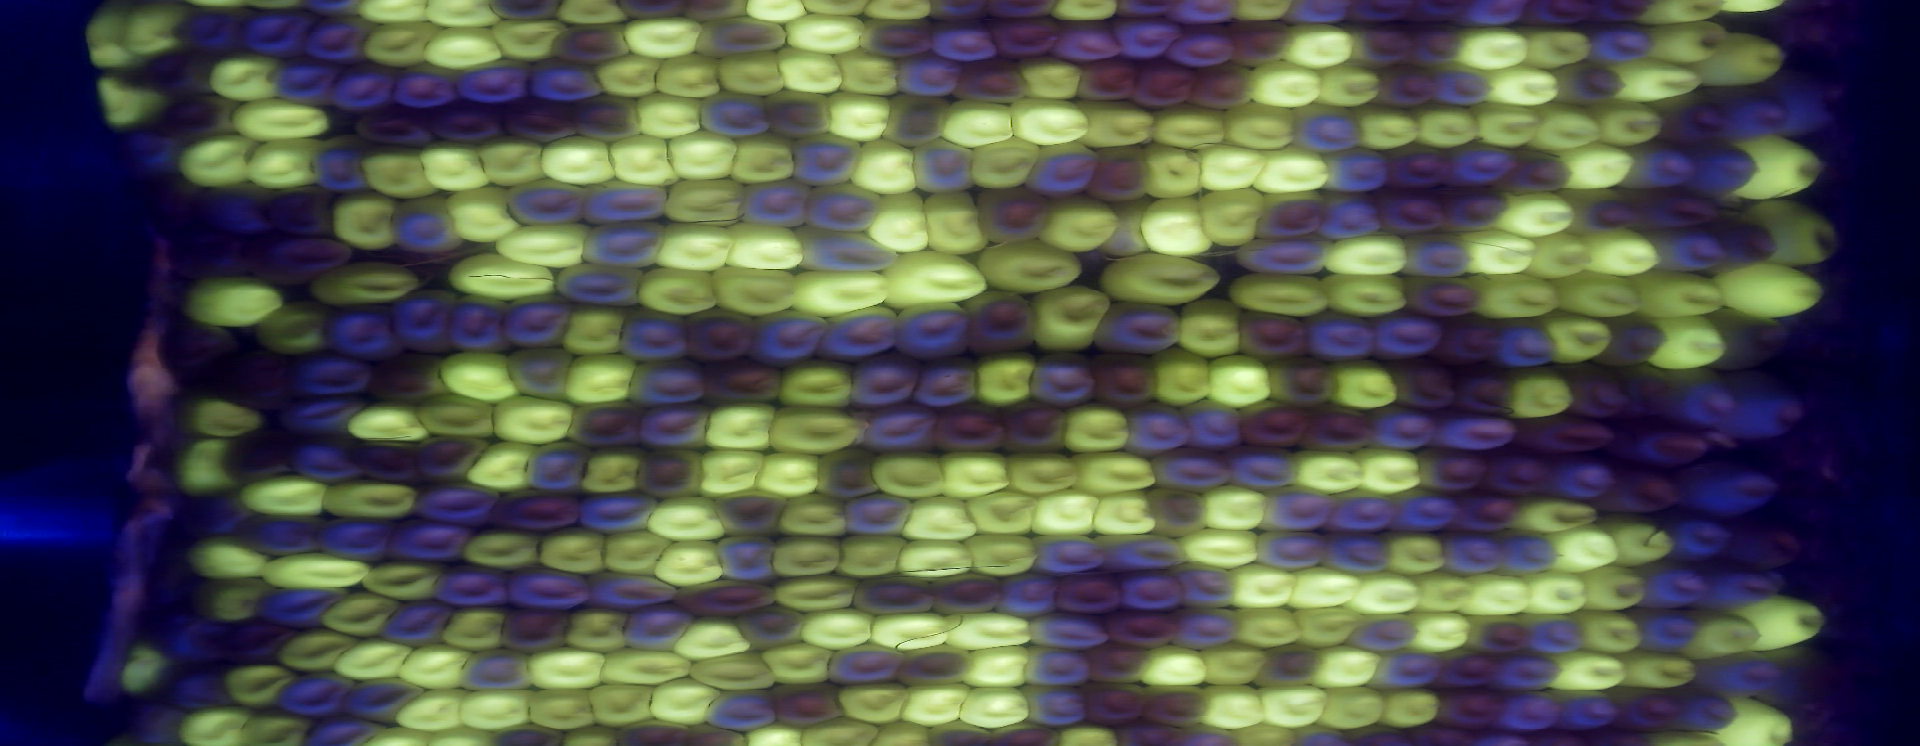fluorescent: (1098, 247, 1228, 312), (874, 244, 994, 312), (442, 245, 567, 307), (975, 234, 1091, 298), (1716, 258, 1829, 323), (762, 401, 876, 464), (1753, 195, 1840, 274), (1739, 132, 1829, 208), (1624, 267, 1731, 328), (178, 272, 287, 332), (1693, 26, 1790, 93), (1035, 189, 1128, 258), (1224, 265, 1340, 321), (1031, 279, 1116, 355), (307, 255, 424, 309), (170, 130, 264, 195), (786, 265, 902, 316), (631, 262, 729, 322), (313, 473, 422, 527), (234, 468, 336, 526), (1464, 268, 1565, 326), (1551, 268, 1649, 327), (1646, 310, 1733, 376), (224, 96, 336, 147), (1735, 592, 1828, 653), (86, 69, 171, 135), (485, 392, 580, 451), (256, 549, 373, 597), (80, 1, 152, 78), (921, 190, 996, 263), (238, 134, 327, 195), (1142, 341, 1221, 410), (1600, 56, 1706, 108), (431, 344, 519, 405), (606, 127, 684, 196), (351, 145, 441, 205), (711, 260, 802, 318), (440, 183, 522, 247), (113, 1, 197, 64), (1138, 194, 1217, 260), (558, 349, 640, 413), (939, 605, 1038, 658), (1064, 446, 1161, 500), (331, 186, 407, 255), (698, 398, 781, 461), (204, 48, 289, 109), (411, 390, 503, 446), (491, 218, 591, 269), (660, 173, 749, 230), (864, 445, 954, 502), (1174, 293, 1245, 365), (1526, 96, 1608, 158), (171, 391, 268, 443), (1201, 348, 1280, 413), (252, 303, 340, 360), (1446, 20, 1538, 75), (1195, 184, 1269, 252), (178, 535, 280, 584), (1007, 93, 1096, 149), (1576, 224, 1665, 281), (520, 643, 616, 696), (1713, 692, 1806, 746), (651, 219, 738, 277), (1146, 100, 1231, 159), (640, 491, 729, 548), (1638, 13, 1733, 66), (866, 187, 936, 258), (165, 435, 238, 503), (271, 624, 362, 677), (1679, 609, 1771, 663), (594, 644, 703, 690), (722, 219, 812, 274), (1491, 187, 1581, 243), (613, 12, 714, 61), (1555, 138, 1642, 195), (1059, 401, 1138, 463), (1538, 307, 1618, 369), (971, 344, 1043, 412), (1466, 96, 1547, 156), (1599, 510, 1680, 570), (318, 587, 404, 643), (724, 127, 802, 189), (1243, 56, 1326, 114), (1092, 194, 1160, 265), (1138, 138, 1210, 205), (669, 612, 759, 665), (936, 94, 1020, 151), (1247, 143, 1335, 197), (1284, 445, 1373, 499), (936, 443, 1011, 506), (688, 647, 782, 697), (1321, 229, 1416, 279), (482, 13, 574, 65), (894, 492, 983, 545), (749, 445, 828, 505), (1277, 15, 1360, 71), (1218, 99, 1302, 156), (776, 355, 860, 412), (643, 675, 726, 731), (1545, 522, 1629, 578), (851, 136, 923, 201), (331, 635, 418, 688), (1009, 50, 1089, 109), (340, 401, 436, 450), (1075, 96, 1160, 151), (536, 132, 617, 190), (1588, 96, 1669, 153), (217, 658, 305, 710), (433, 599, 511, 659), (393, 639, 475, 696), (828, 677, 913, 731), (780, 10, 872, 60), (471, 130, 550, 189), (1191, 138, 1275, 194), (465, 435, 539, 497), (191, 572, 274, 627), (1282, 562, 1369, 615), (823, 88, 899, 148), (771, 489, 852, 545), (1177, 523, 1267, 573), (459, 523, 547, 575), (1322, 269, 1411, 321), (360, 17, 442, 72), (797, 601, 879, 657), (962, 527, 1046, 581), (1308, 59, 1391, 113), (692, 443, 771, 500), (1003, 443, 1084, 499), (1348, 99, 1427, 156), (1408, 98, 1487, 154), (769, 570, 863, 616), (662, 127, 742, 183), (1133, 639, 1212, 695), (583, 677, 662, 733), (1520, 20, 1599, 75), (1458, 225, 1538, 281), (830, 530, 913, 583), (560, 299, 628, 363), (831, 47, 909, 103), (1193, 637, 1277, 688), (1483, 64, 1567, 115), (1325, 356, 1402, 413), (1026, 488, 1104, 543), (452, 685, 540, 734), (1502, 366, 1577, 424), (773, 43, 849, 99), (1198, 479, 1273, 535), (1224, 559, 1300, 615), (1378, 526, 1453, 582), (523, 684, 604, 736), (711, 44, 789, 99), (1349, 442, 1427, 497), (1571, 605, 1644, 663), (536, 526, 615, 579), (411, 138, 493, 190), (165, 698, 253, 746), (960, 642, 1040, 695), (962, 488, 1038, 543), (1524, 228, 1600, 283), (1250, 679, 1333, 729), (951, 682, 1035, 733), (867, 608, 959, 653), (1513, 491, 1605, 537), (969, 134, 1041, 191), (1614, 648, 1701, 696), (1344, 572, 1431, 620), (595, 527, 673, 579), (1309, 644, 1391, 695), (1089, 486, 1163, 541), (416, 24, 504, 71), (765, 529, 845, 581), (577, 443, 651, 497), (651, 537, 726, 590), (1315, 681, 1390, 735), (760, 639, 840, 690), (894, 535, 977, 583), (359, 557, 446, 603), (1547, 648, 1631, 695), (590, 49, 666, 100), (1404, 606, 1480, 658), (1457, 572, 1537, 621), (1578, 562, 1652, 615), (560, 601, 629, 657), (1520, 566, 1594, 617), (650, 51, 729, 100), (1229, 603, 1308, 652), (1288, 601, 1364, 652), (898, 680, 970, 733), (389, 686, 468, 734), (1404, 568, 1480, 617), (1201, 680, 1270, 734), (1373, 684, 1446, 731), (116, 636, 167, 704), (234, 708, 316, 746), (1635, 1, 1733, 31), (420, 1, 506, 34), (353, 1, 440, 29), (550, 1, 634, 29), (737, 1, 819, 28), (1044, 1, 1127, 26), (863, 1, 940, 27), (1228, 1, 1296, 29), (797, 1, 878, 20)
nonfluorescent: (1673, 456, 1783, 530), (1749, 435, 1847, 517), (204, 342, 299, 421), (1719, 364, 1813, 443), (151, 317, 242, 390), (245, 230, 356, 289), (1764, 69, 1856, 140), (1708, 304, 1795, 379), (885, 296, 980, 365), (1610, 419, 1717, 479), (1656, 363, 1744, 435), (1089, 296, 1190, 359), (960, 285, 1044, 360), (791, 220, 905, 276), (814, 301, 906, 369), (318, 293, 407, 363), (1594, 463, 1692, 526), (136, 171, 214, 249), (138, 517, 204, 608), (486, 480, 588, 538), (190, 183, 285, 244), (1709, 82, 1798, 148), (500, 561, 600, 619), (389, 284, 464, 361), (158, 229, 260, 285), (140, 604, 233, 665), (697, 353, 793, 412), (407, 478, 512, 532), (680, 303, 765, 369), (497, 287, 578, 356), (380, 512, 478, 570), (360, 347, 452, 408), (498, 341, 583, 407), (743, 307, 833, 370), (1760, 639, 1834, 714), (1717, 511, 1802, 576), (579, 213, 673, 272), (1520, 412, 1622, 465), (973, 181, 1057, 247), (383, 191, 467, 256), (1682, 140, 1766, 205), (257, 179, 342, 243), (1229, 305, 1315, 367), (1118, 394, 1200, 459), (249, 579, 351, 631), (271, 665, 362, 723), (162, 485, 260, 539), (845, 348, 924, 414), (506, 171, 595, 230), (927, 398, 1013, 459), (1604, 679, 1690, 740), (555, 258, 649, 314), (167, 1, 258, 58), (671, 575, 787, 619), (1025, 138, 1107, 201), (1651, 89, 1733, 152), (1380, 353, 1462, 415), (844, 571, 945, 621), (691, 13, 795, 62), (1089, 529, 1198, 576), (375, 590, 456, 653), (1662, 506, 1742, 568), (860, 399, 945, 458), (1449, 359, 1522, 428), (1560, 359, 1633, 428), (1621, 601, 1707, 660), (408, 429, 497, 485), (240, 1, 322, 62), (998, 396, 1075, 461), (616, 304, 694, 367), (1085, 348, 1163, 412), (1629, 187, 1725, 239), (218, 426, 298, 489), (708, 485, 796, 541), (1644, 223, 1733, 279), (1363, 307, 1449, 365), (1696, 560, 1782, 617), (578, 566, 678, 615), (240, 510, 336, 561), (800, 179, 887, 235), (282, 432, 369, 489), (442, 292, 520, 354), (1025, 349, 1103, 412), (1371, 184, 1455, 243), (1429, 307, 1509, 369), (1478, 446, 1562, 503), (1427, 405, 1523, 456), (1700, 214, 1780, 274), (573, 485, 665, 538), (1393, 227, 1479, 283), (214, 609, 296, 668), (1284, 99, 1367, 158), (1440, 135, 1522, 194), (1631, 557, 1713, 616), (309, 510, 398, 563), (579, 176, 675, 227), (133, 47, 220, 102), (1253, 481, 1340, 537), (337, 671, 427, 724), (520, 434, 594, 499), (452, 55, 536, 111), (520, 51, 609, 105), (429, 559, 517, 612), (624, 355, 710, 410), (617, 599, 699, 657), (1300, 399, 1382, 457), (452, 644, 541, 697), (909, 353, 987, 413), (1236, 394, 1314, 454), (694, 88, 778, 145), (500, 93, 583, 149), (1251, 187, 1335, 244), (1309, 190, 1392, 246), (1022, 529, 1116, 579), (758, 86, 839, 143), (1302, 310, 1382, 367), (422, 97, 511, 149), (1487, 315, 1564, 375), (1104, 9, 1187, 65), (563, 398, 645, 454), (153, 94, 245, 145), (495, 601, 578, 657), (1616, 140, 1700, 195), (345, 439, 432, 491), (1547, 58, 1633, 110), (877, 89, 951, 151), (909, 137, 983, 198), (1022, 608, 1116, 657), (636, 443, 711, 503), (384, 59, 469, 113), (982, 10, 1067, 64), (1180, 58, 1261, 114), (1359, 403, 1444, 457), (1411, 443, 1491, 500), (948, 59, 1036, 110), (929, 571, 1018, 622), (767, 679, 849, 734), (1667, 681, 1745, 739), (277, 388, 373, 435), (345, 103, 437, 152), (285, 350, 375, 401), (1485, 528, 1569, 582), (1379, 137, 1458, 194), (738, 174, 813, 234), (1149, 441, 1236, 492), (1220, 441, 1307, 492), (838, 489, 918, 544), (1564, 184, 1644, 239), (1577, 20, 1662, 72), (1233, 235, 1331, 281), (1613, 364, 1685, 425), (1015, 681, 1097, 735), (1540, 452, 1622, 506), (1167, 600, 1245, 657), (109, 122, 182, 183), (814, 445, 888, 505), (299, 11, 378, 66), (1078, 677, 1157, 733), (1596, 315, 1675, 370), (1322, 485, 1402, 540), (1085, 138, 1153, 202), (823, 639, 910, 690), (1164, 559, 1245, 612), (1113, 565, 1194, 619), (1430, 684, 1515, 735), (1318, 527, 1400, 579), (1400, 273, 1485, 323), (1364, 646, 1450, 696), (309, 131, 373, 197), (636, 401, 719, 452), (1127, 55, 1202, 111), (1044, 16, 1125, 69), (1493, 145, 1577, 195), (1384, 489, 1468, 539), (789, 130, 867, 184), (1547, 682, 1625, 736), (1145, 480, 1213, 541), (735, 599, 814, 652), (989, 570, 1065, 625), (1516, 604, 1588, 661), (572, 91, 649, 145), (267, 55, 340, 111), (893, 642, 975, 692), (327, 58, 403, 111), (711, 530, 782, 588), (1178, 394, 1251, 450), (552, 21, 637, 69), (887, 49, 965, 100), (1106, 599, 1184, 650), (704, 684, 782, 735), (1262, 352, 1337, 405), (1423, 58, 1498, 111), (1449, 488, 1523, 541), (1322, 141, 1393, 197), (1438, 527, 1509, 583), (1019, 642, 1095, 695), (156, 666, 239, 714), (1163, 20, 1240, 71), (1141, 677, 1218, 729), (1700, 652, 1780, 701), (1487, 647, 1567, 696), (1226, 15, 1296, 71), (1049, 570, 1129, 619), (857, 13, 936, 62), (1251, 526, 1330, 575), (1436, 186, 1513, 235), (926, 15, 1000, 65), (1489, 686, 1569, 733), (1342, 24, 1419, 72), (1352, 608, 1427, 657), (1071, 54, 1142, 105), (120, 693, 187, 746), (1397, 20, 1466, 71), (1463, 612, 1537, 660), (1082, 639, 1153, 687), (1253, 641, 1322, 688), (1429, 646, 1502, 690), (1374, 62, 1442, 107), (298, 712, 384, 746), (1513, 1, 1599, 34), (1451, 1, 1536, 33), (610, 715, 696, 746), (1282, 1, 1357, 34), (1164, 1, 1249, 29), (1573, 1, 1652, 29), (1338, 1, 1423, 27), (482, 1, 566, 27), (1401, 1, 1469, 29), (680, 722, 751, 746)
